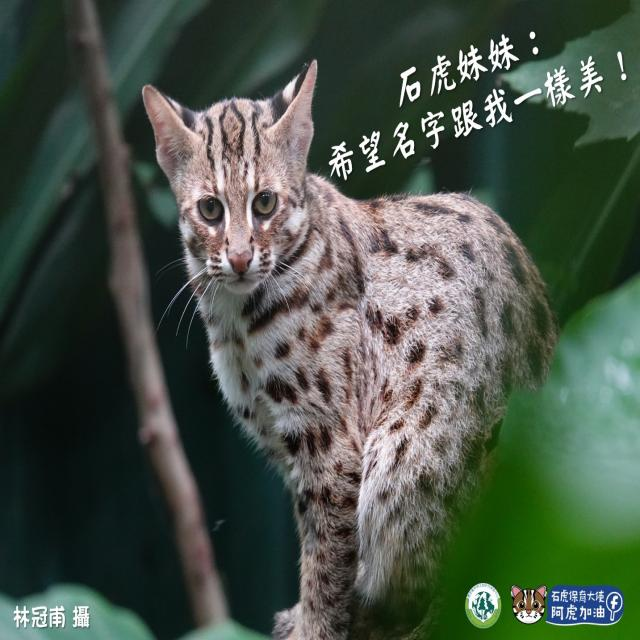leopard-cat: (138, 78, 312, 376)
